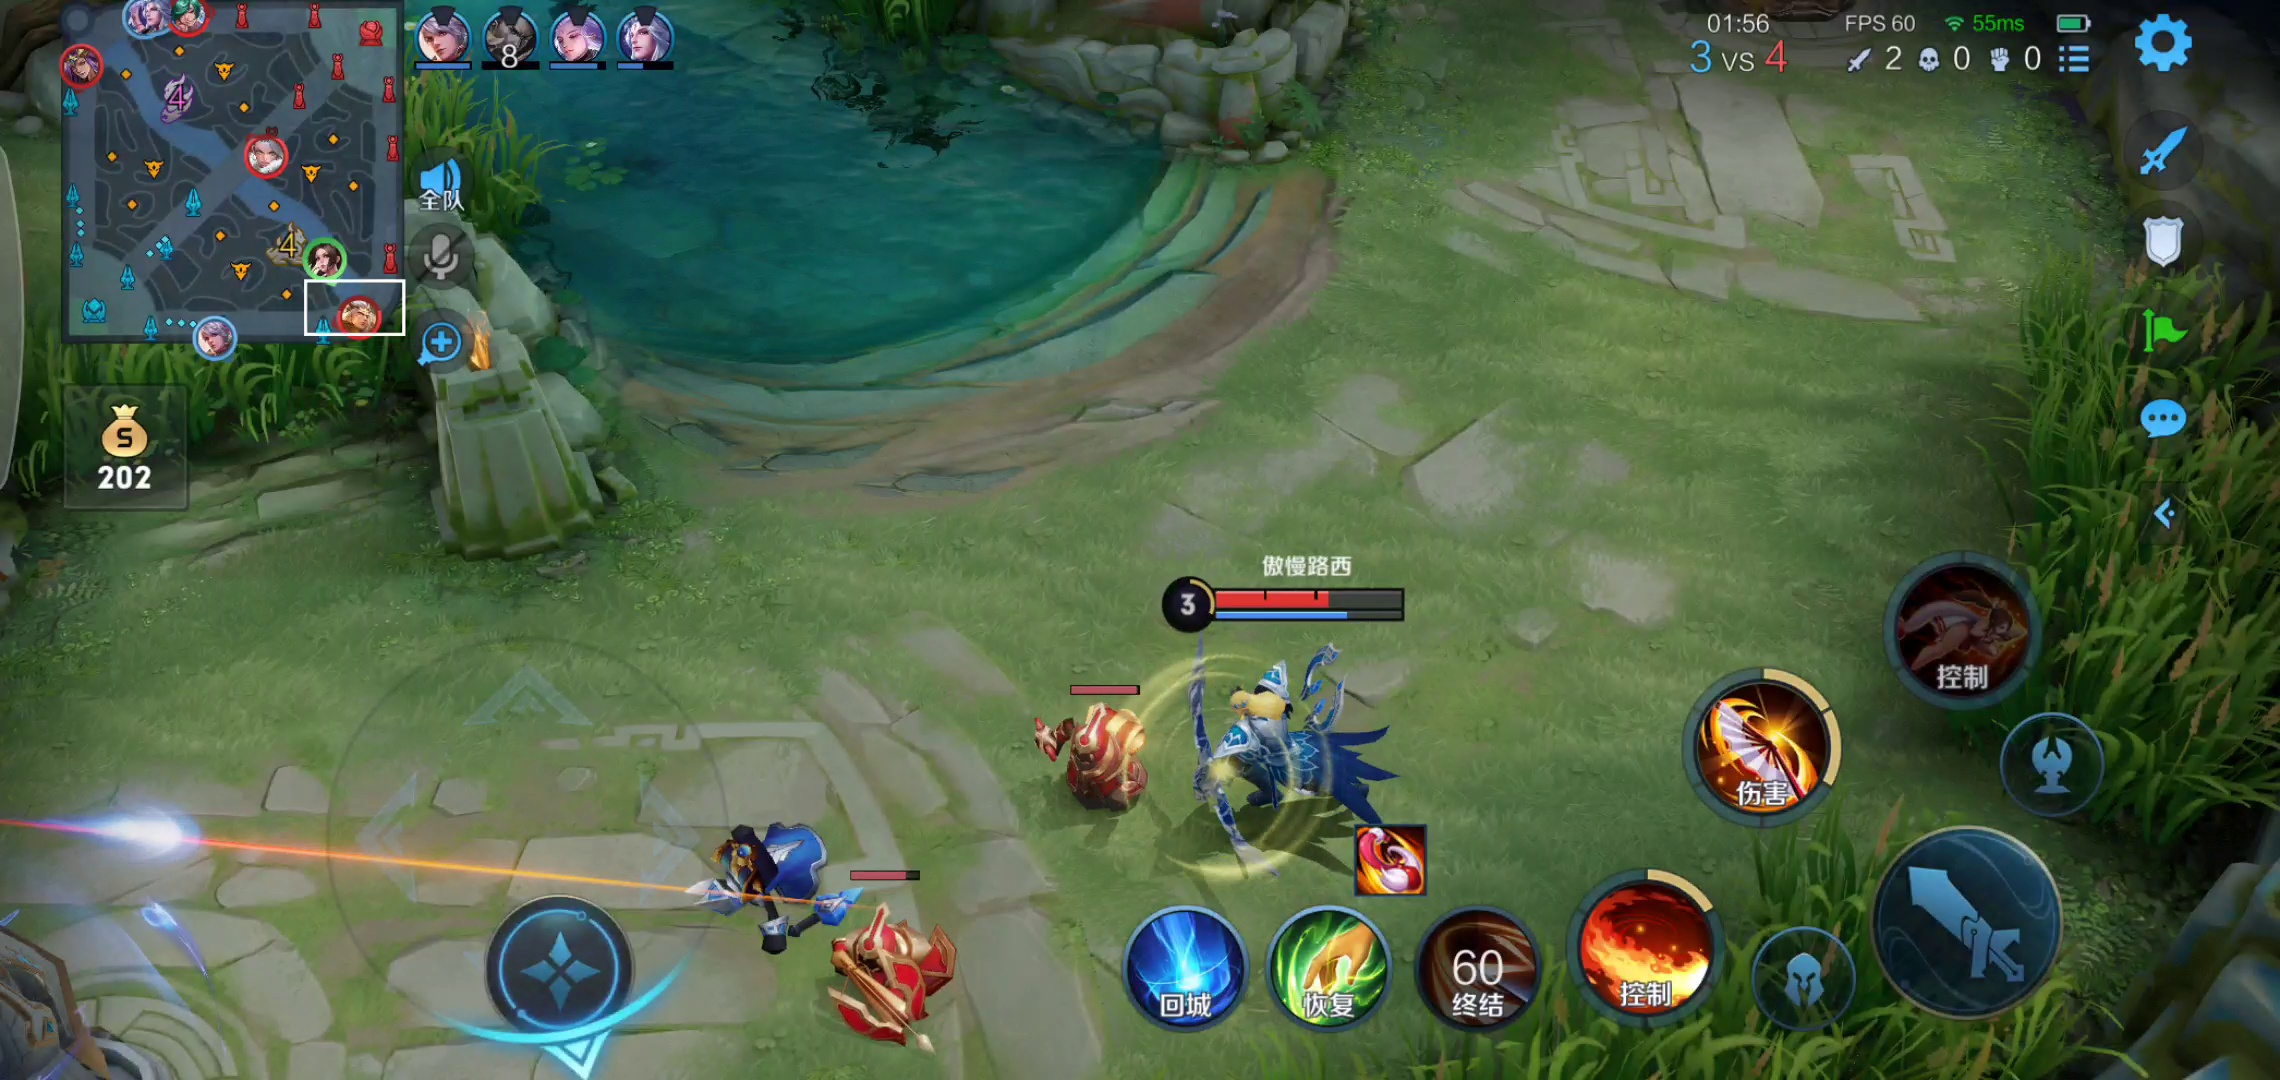grass: (1988, 241, 2280, 810), (1450, 824, 2071, 1079), (31, 326, 410, 488), (398, 70, 553, 230)
hero: (1187, 651, 1405, 877)
soldier: (694, 821, 851, 954), (833, 919, 967, 1048), (1024, 696, 1152, 811)
